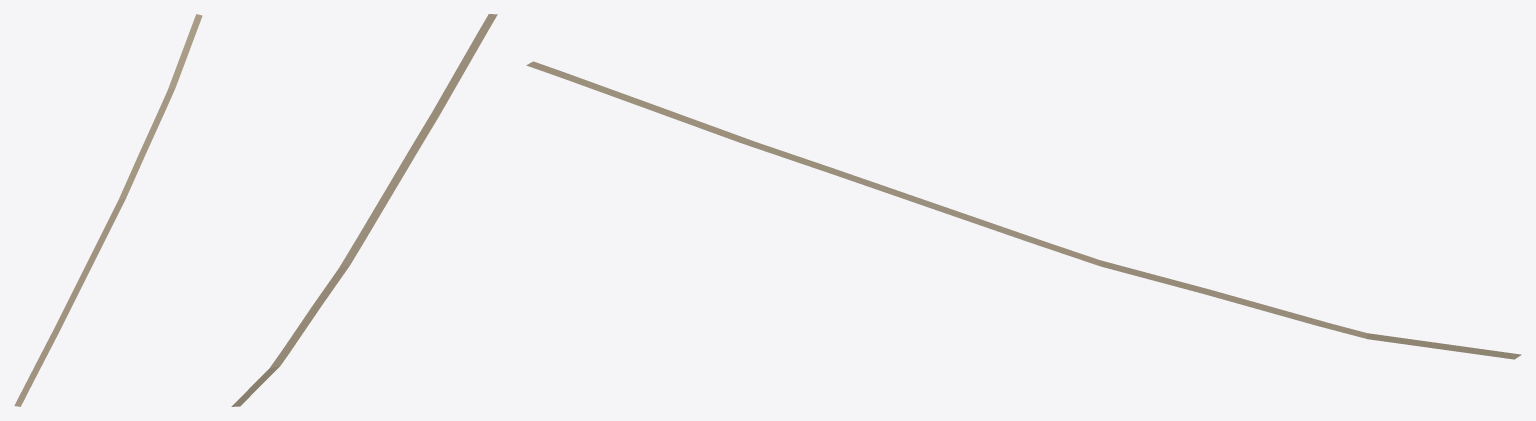
File: farm_-20_-24_track.glb
The picture shows the model from 3 angles, left to right: view 1: azimuth 30°, elevation 25°; view 2: azimuth 210°, elevation 25°; view 3: azimuth 270°, elevation 25°; orthographic projection. The views are drawn at different scales.
Parts seen in each view (by area): view 1: geometry_0; view 2: geometry_0; view 3: geometry_0.
Part boxes in pixels (bbox=[...]): geometry_0: bbox=[14, 14, 202, 406]; geometry_0: bbox=[231, 14, 497, 406]; geometry_0: bbox=[526, 61, 1521, 359].
Bounding box in the file's own units: 278 × 31.79 × 298.
